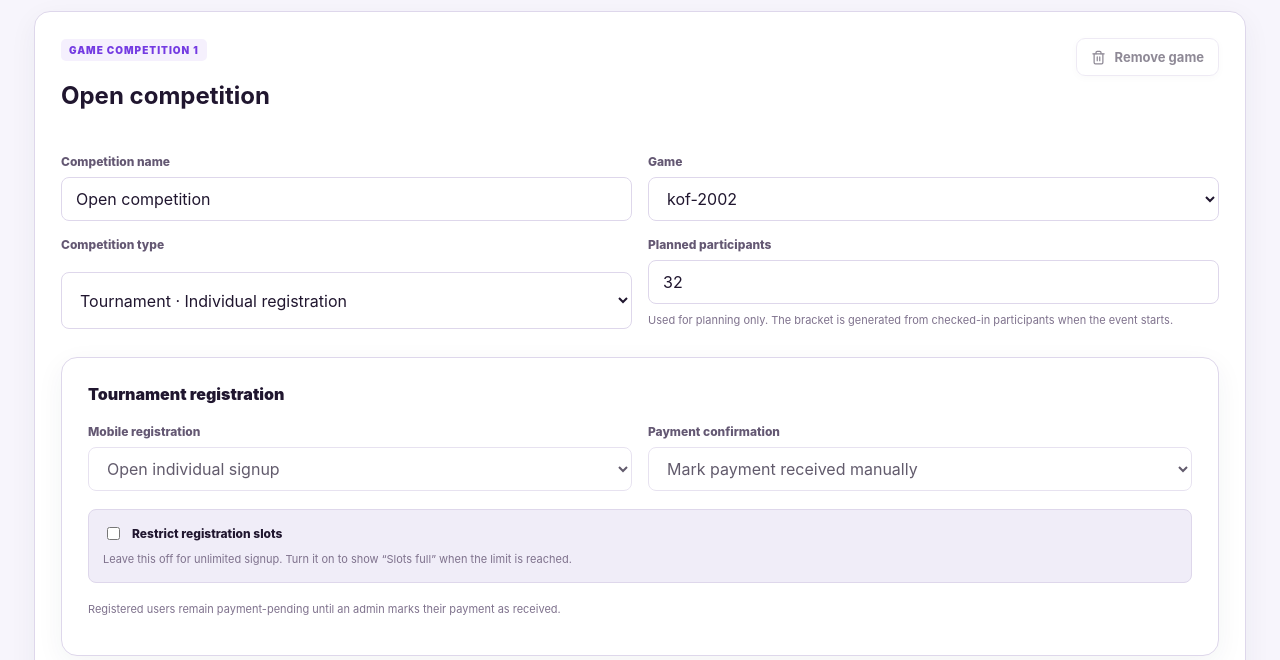
Scenario: TournamentBuilder › configures an admin-assigned league with leaders and player confirmations
(page scrolled)
Step 1. Select "League · Admin-assigned teams" in the dropdown labelled "Competition type" → (346, 301), box [61, 272, 632, 329]
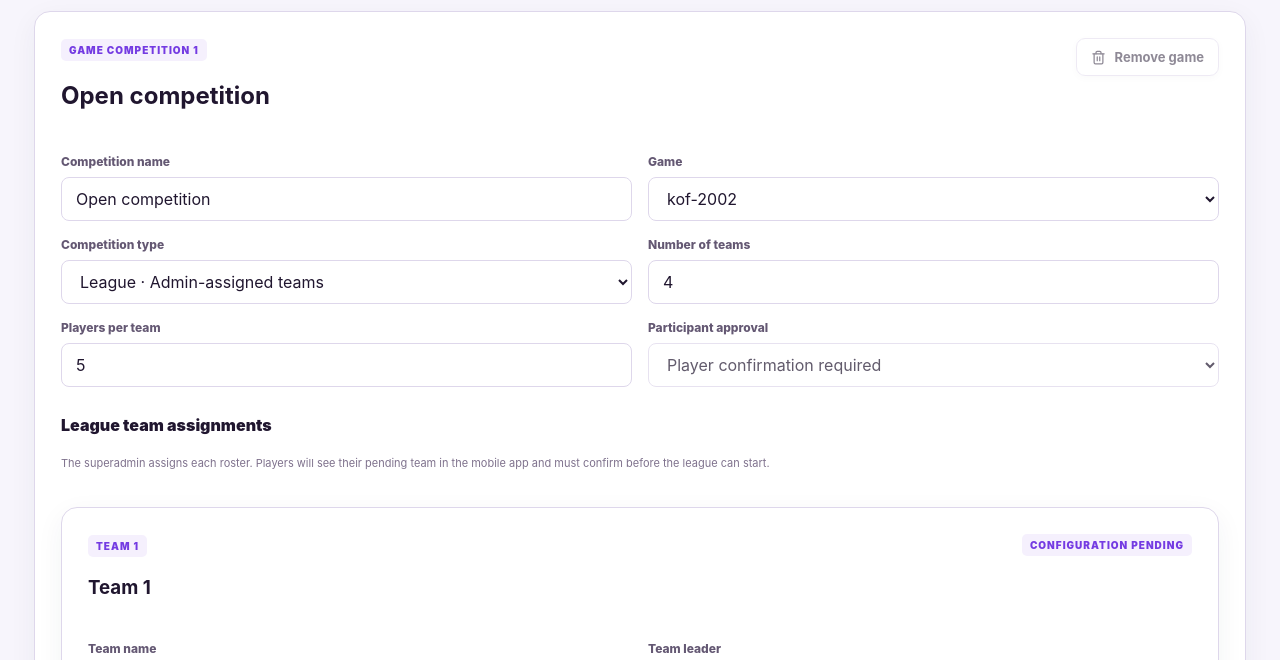
Step 2. Replace the text in the number field labelled "Number of teams" with "2" → (934, 282), box [648, 260, 1219, 304]
(page scrolled)
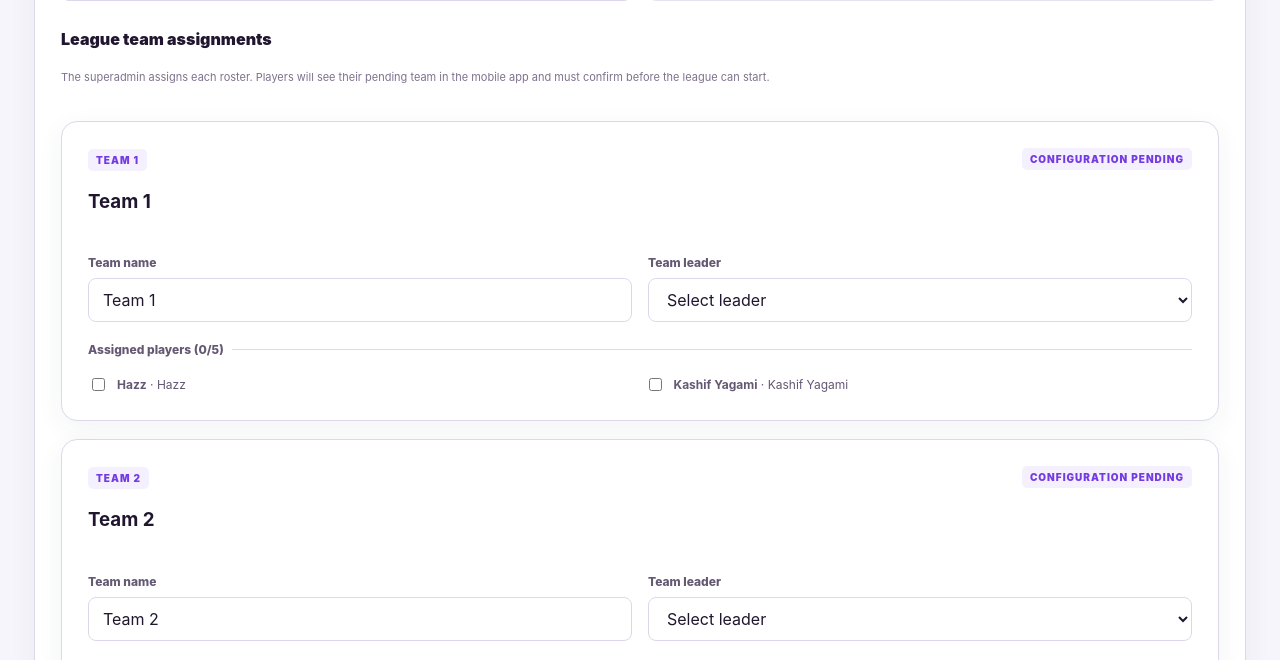
Expected: the heading "League team assignments" is shown, [61, 29, 272, 49]
Expected: the text "TEAM 1" is shown, [88, 190, 151, 213]
Expected: the text "CONFIGURATION PENDING" is shown 2 times, [1022, 148, 1192, 170]; [1022, 466, 1192, 488]
Step 3. Select "Hazz · Hazz" in the 1st dropdown labelled "Team leader" → (920, 300), box [648, 278, 1192, 322]
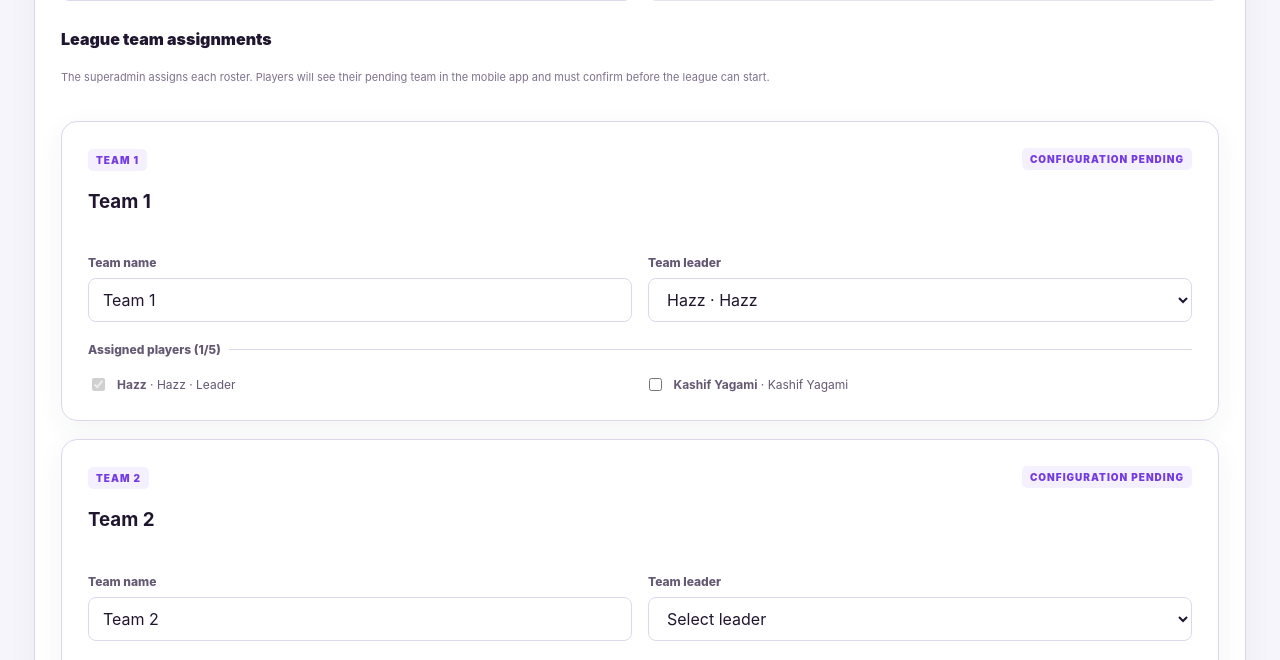
Expected: the checkbox labelled "Hazz · Hazz · Leader" is checked, [92, 378, 105, 391]
Expected: the text "Assigned players (1/5)" is shown, [88, 342, 229, 357]
